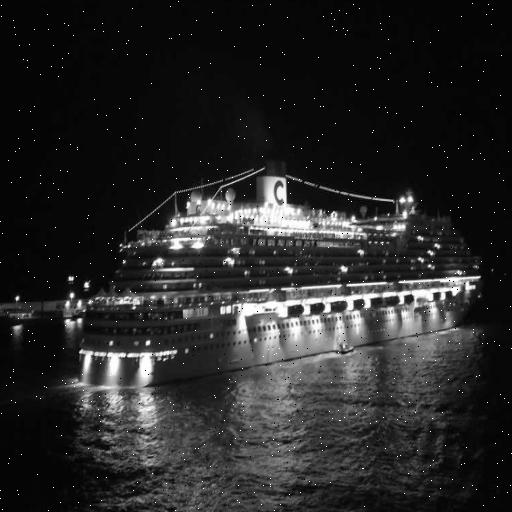cruises: (72, 153, 487, 392)
